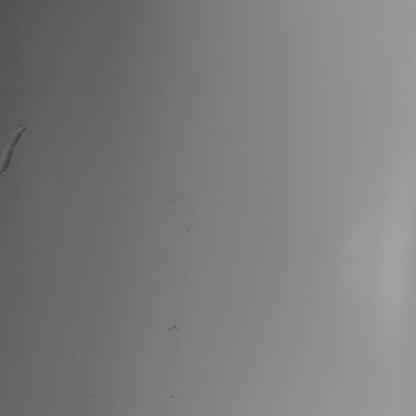sunshang: (1, 128, 27, 178)
